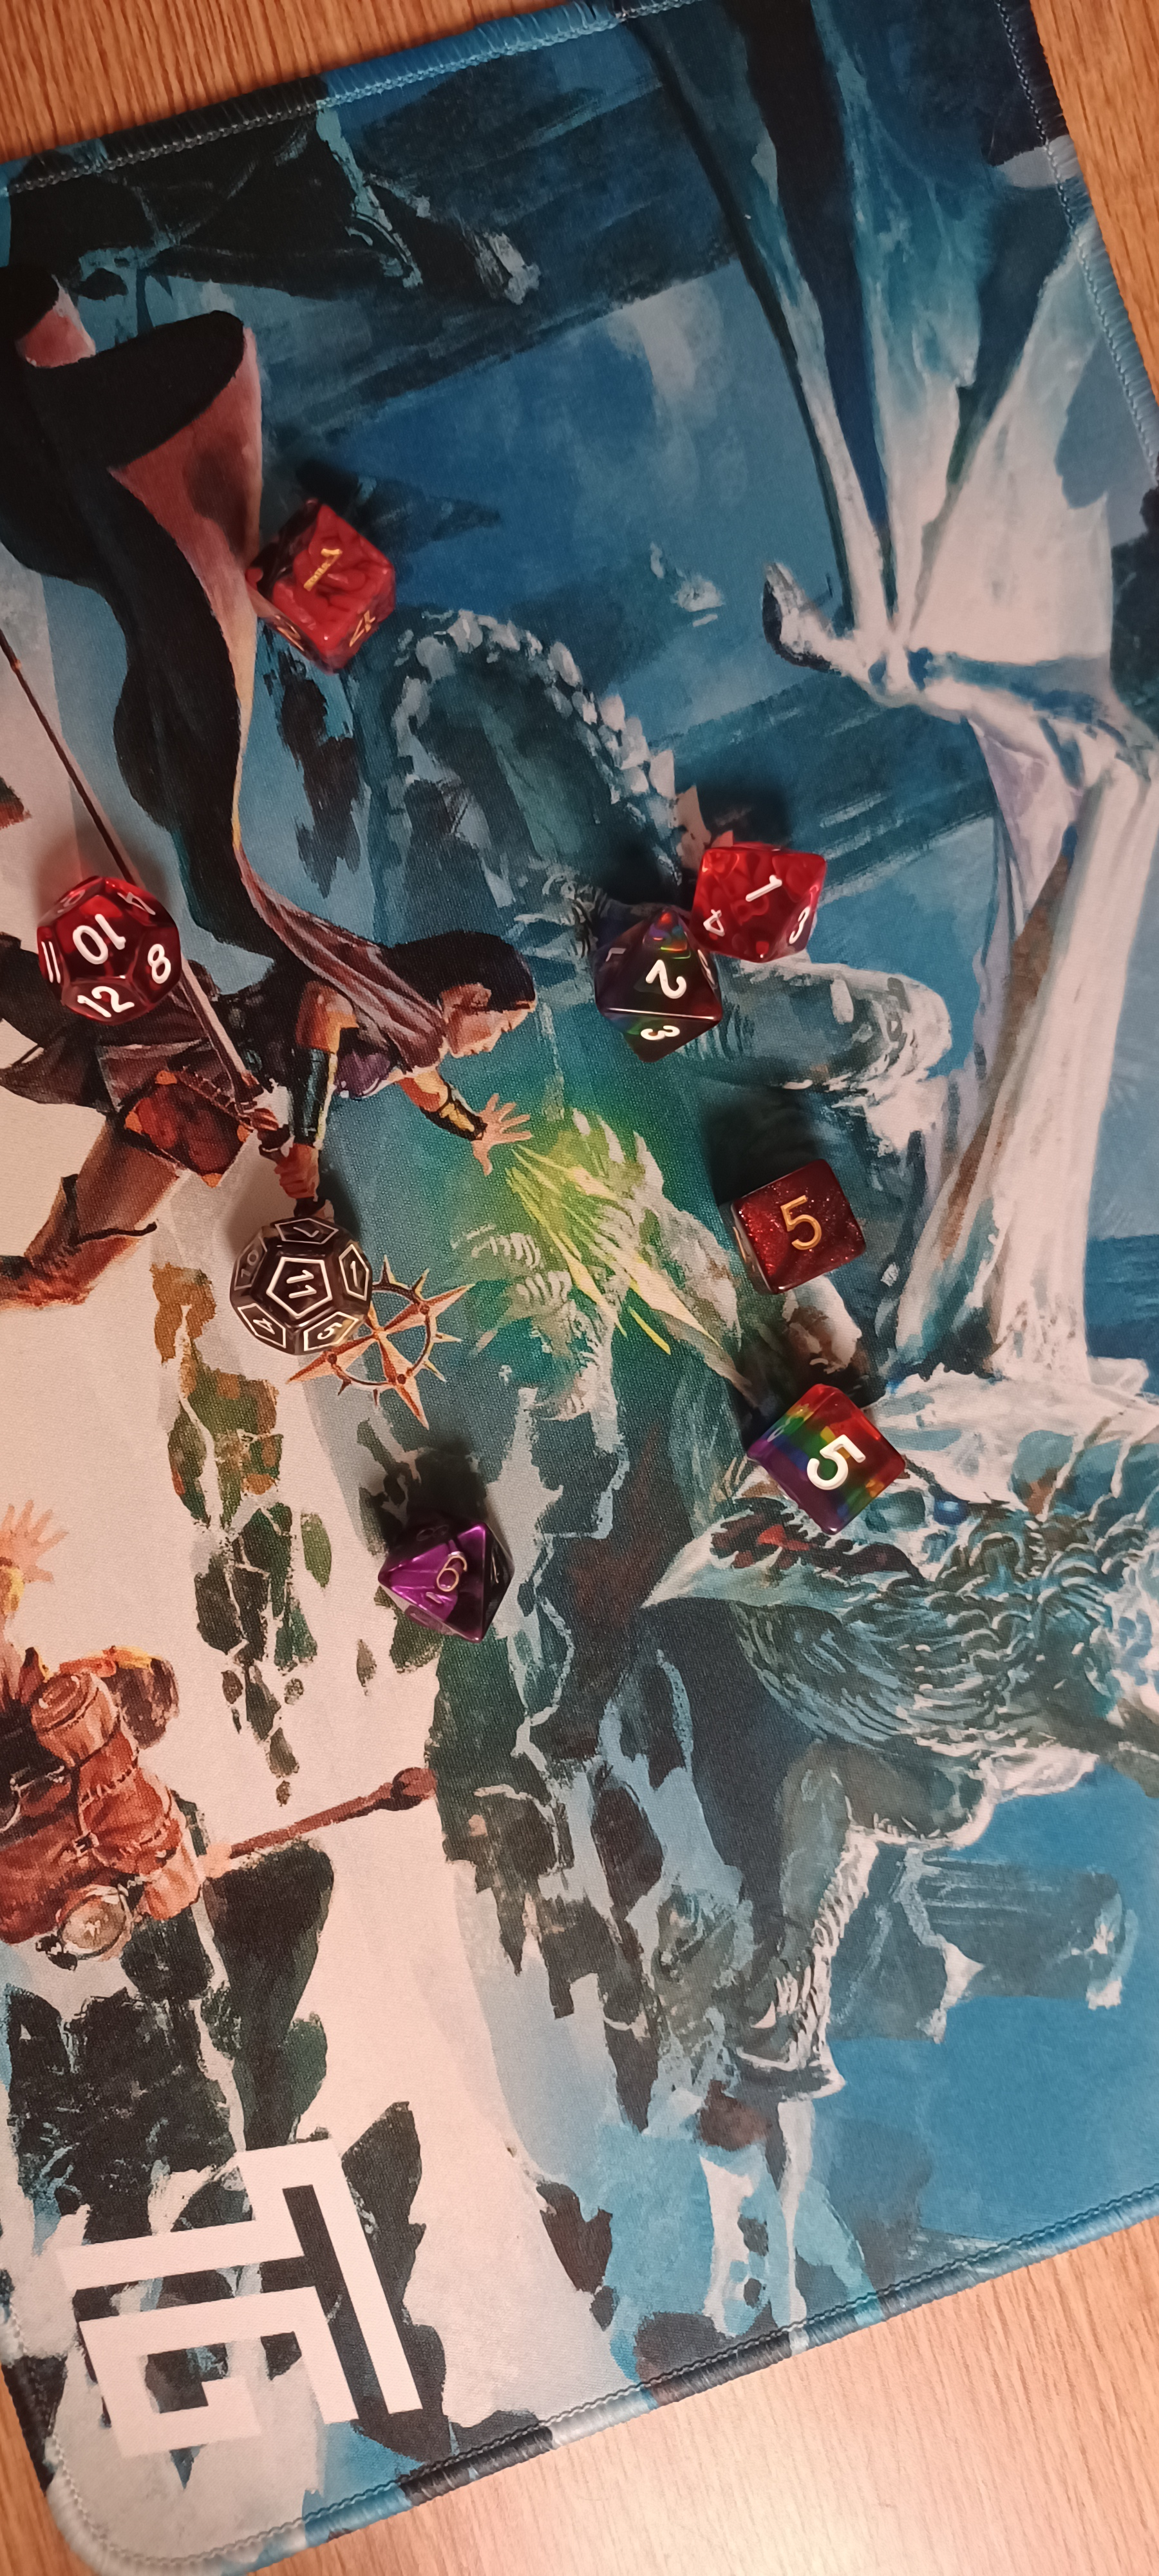eleven: (217, 1189, 409, 1375)
five: (729, 1354, 936, 1576), (689, 1145, 886, 1304)
one: (236, 470, 432, 685), (658, 805, 852, 974)
six: (348, 1503, 555, 1682)
ten: (23, 851, 182, 1030)
two: (586, 899, 744, 1058)
